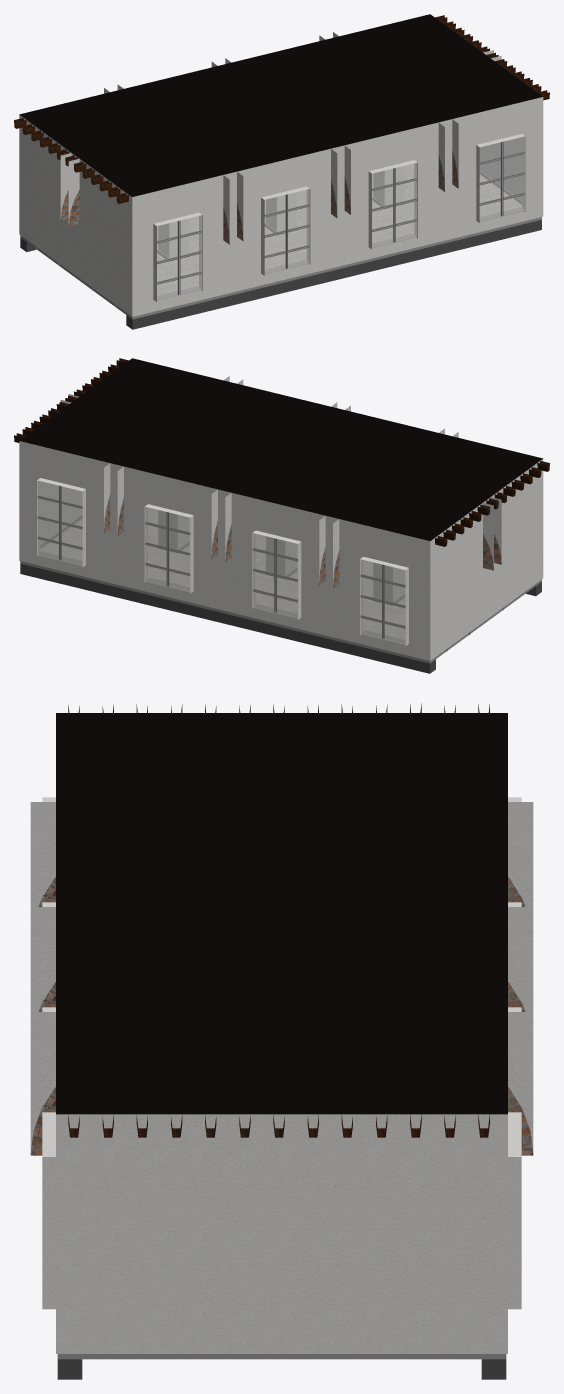
File: vr_gallery_vintage_for_product_showcase_2019.glb
3 views of the same model, one above another, from view 1: azimuth 30°, elevation 25°; view 2: azimuth 150°, elevation 25°; view 3: azimuth 270°, elevation 25° (orthographic). The views are drawn at different scales.
Visible parts, largest first — view 1: ShowCase_Gallery; view 2: ShowCase_Gallery; view 3: ShowCase_Gallery.
Boxes of the visible parts, left/top/right/bottom form: ShowCase_Gallery: left=14, top=14, right=549, bottom=329; ShowCase_Gallery: left=14, top=358, right=549, bottom=673; ShowCase_Gallery: left=30, top=703, right=533, bottom=1379.
Bounding box in the file's own units: 1106 × 325 × 556.
7 materials, 4 textured.
